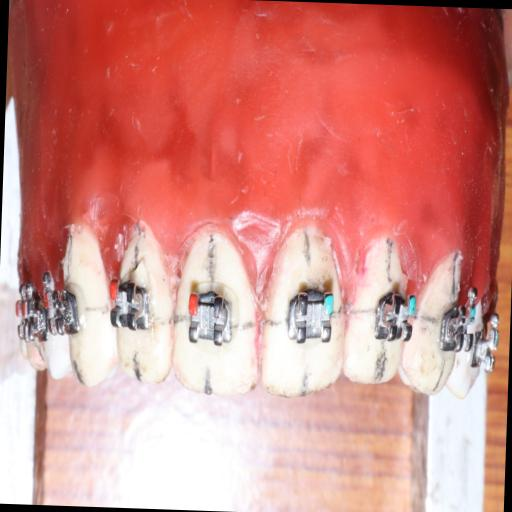incorrect_brace: (182, 285, 240, 353), (284, 284, 336, 348)
